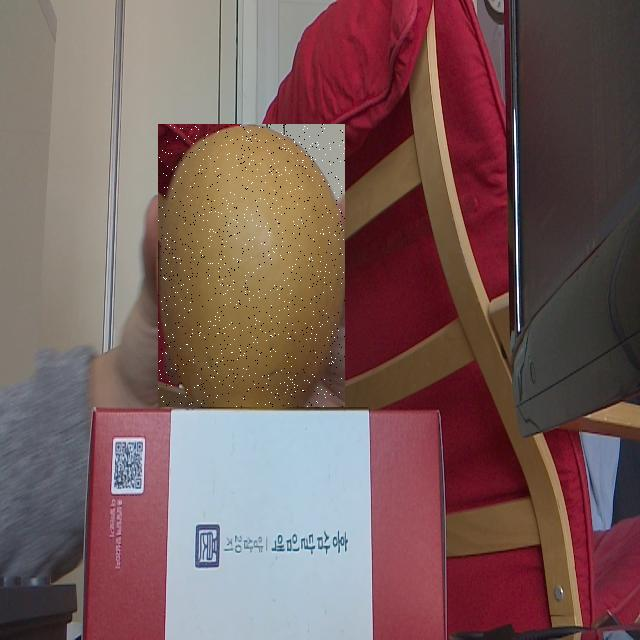pear: (158, 124, 345, 407)
